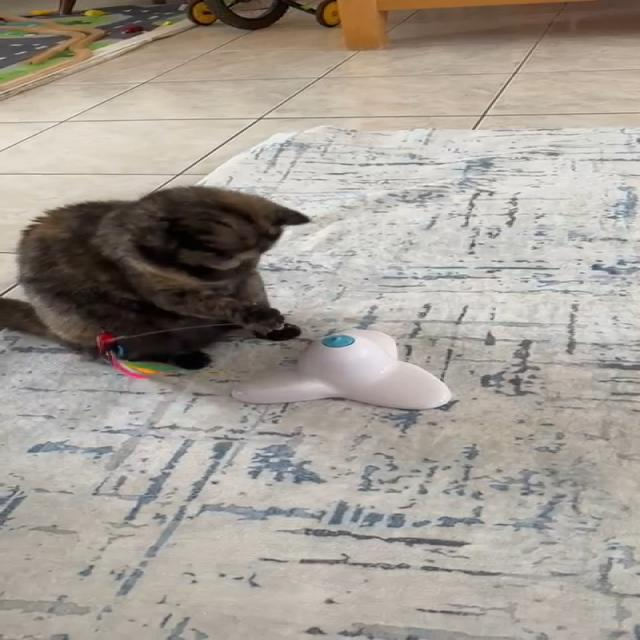authorized: (0, 184, 311, 370)
